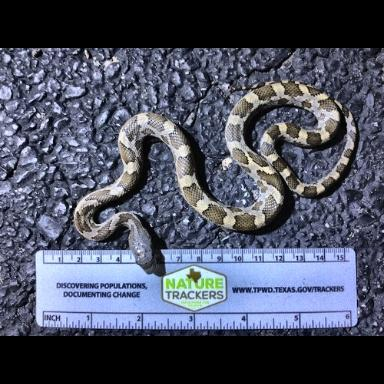snake: (51, 71, 368, 279)
